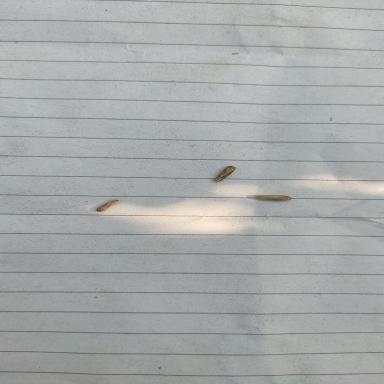pbw: (213, 166, 236, 182), (97, 199, 118, 212), (257, 195, 291, 201)
